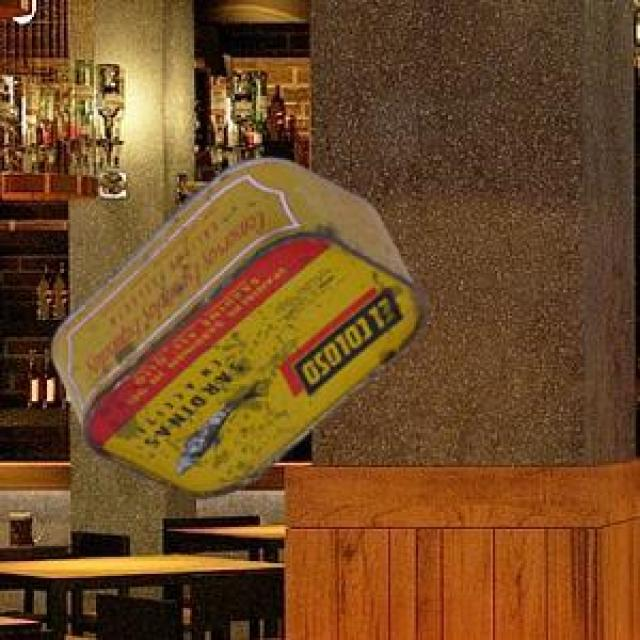logam: (48, 155, 423, 496)
